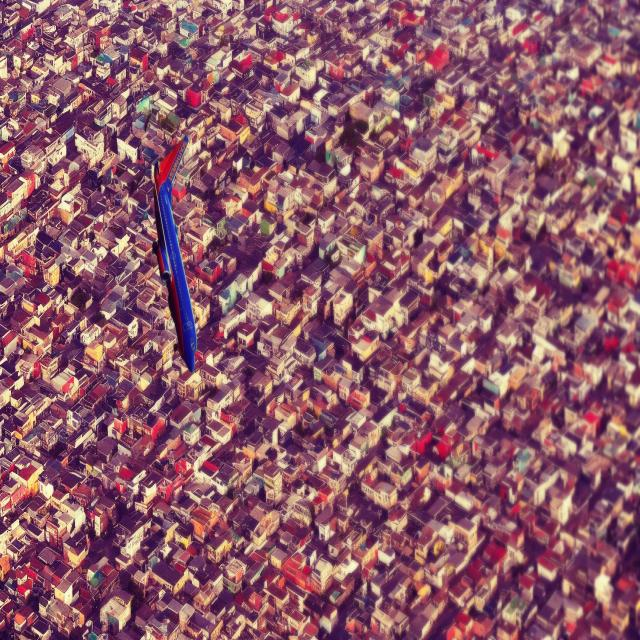airplane: (150, 134, 198, 374)
